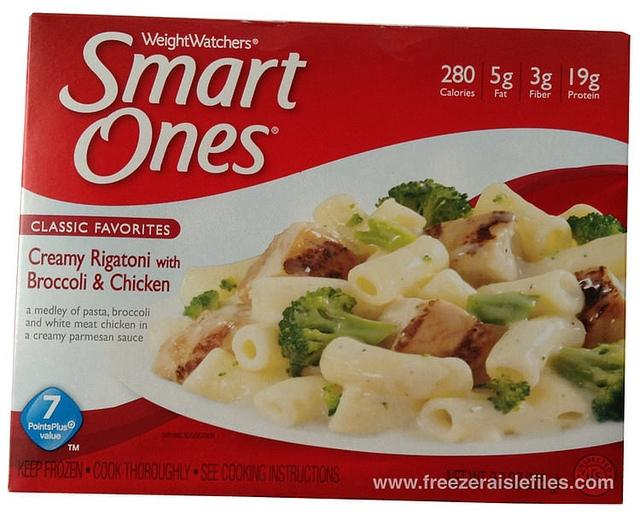broccoli: (277, 286, 399, 378), (548, 340, 624, 424), (376, 178, 476, 232), (466, 291, 540, 325), (566, 212, 626, 247), (355, 218, 413, 252), (486, 374, 530, 414), (182, 289, 220, 321)
